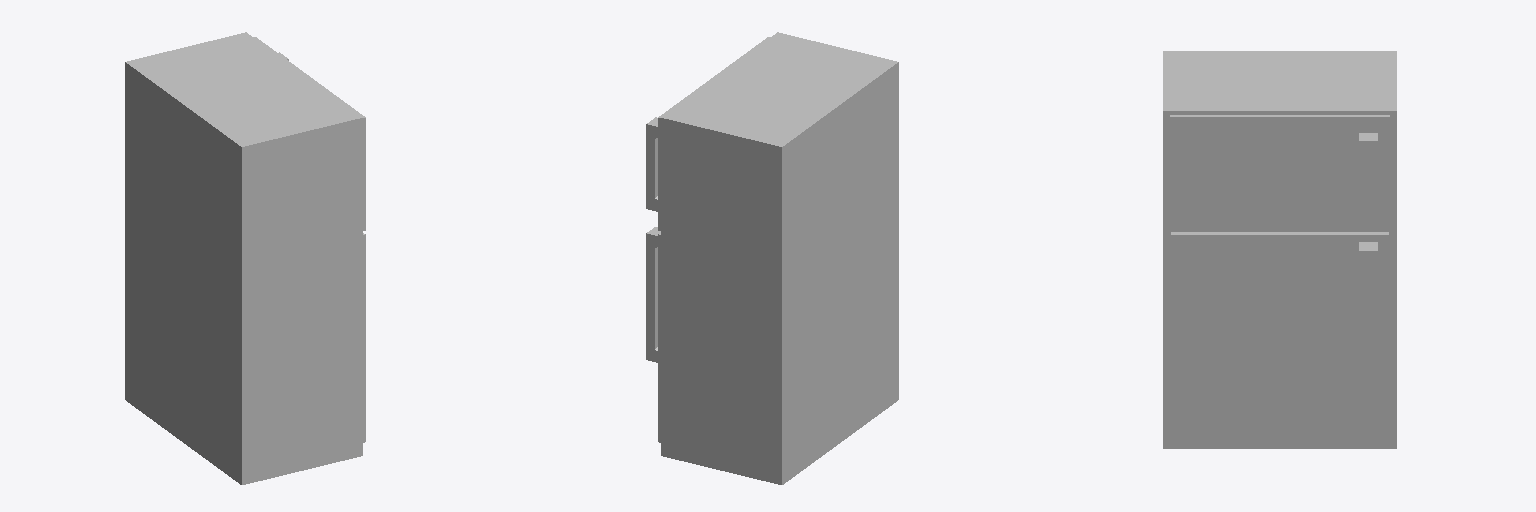
File: fridgedefault.obj
3 renders of one model, left to right at view 1: azimuth 30°, elevation 25°; view 2: azimuth 150°, elevation 25°; view 3: azimuth 270°, elevation 25°, orthographic.
Parts seen in each view (by area): view 1: pCube15, pCube17, pCube16; view 2: pCube15, pCube18, pCube19, pCube17, pCube16; view 3: pCube17, pCube16, pCube15, pCube18, pCube19.
Part boxes in pixels (left/top/right/bottom): pCube15: left=125, top=32, right=362, bottom=484; pCube17: left=363, top=233, right=365, bottom=442; pCube16: left=254, top=37, right=365, bottom=230; pCube15: left=661, top=32, right=898, bottom=484; pCube18: left=646, top=227, right=660, bottom=362; pCube19: left=646, top=117, right=657, bottom=211; pCube17: left=658, top=233, right=660, bottom=442; pCube16: left=658, top=37, right=769, bottom=230; pCube17: left=1171, top=232, right=1388, bottom=442; pCube16: left=1170, top=115, right=1389, bottom=230; pCube15: left=1163, top=51, right=1396, bottom=448; pCube18: left=1359, top=242, right=1377, bottom=376; pCube19: left=1359, top=133, right=1377, bottom=225.
Size of the model in its own units: 1.8 by 4 by 2.5.